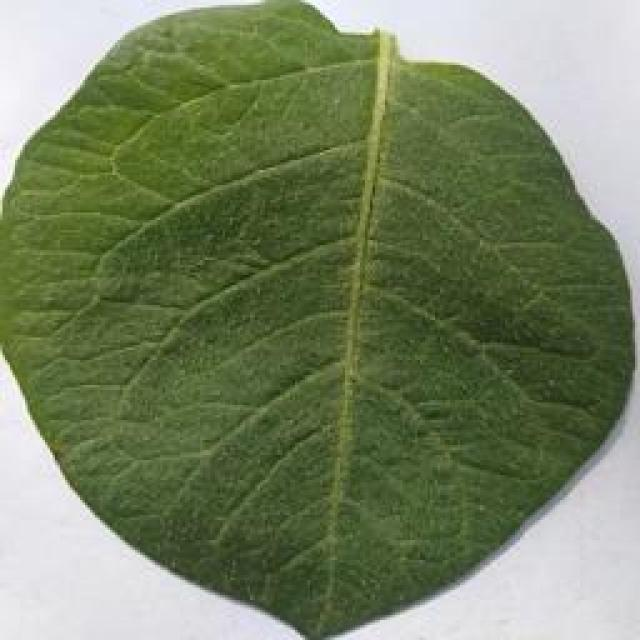Potato_Healthy: (12, 10, 638, 623)
